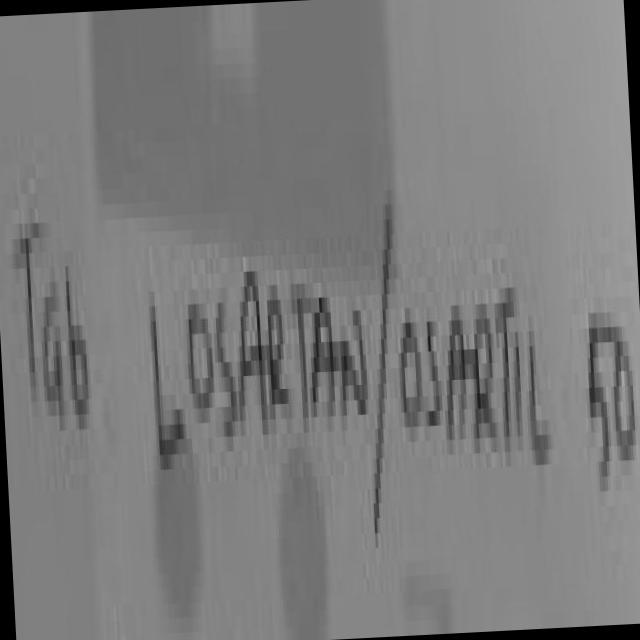0: (616, 327, 638, 461)
5: (586, 314, 612, 477)
A: (241, 272, 268, 435), (449, 305, 471, 440), (312, 298, 336, 417)
I: (513, 324, 524, 458)
L: (151, 307, 186, 463), (527, 331, 551, 463)
N: (341, 310, 368, 416)
O: (189, 304, 214, 408), (402, 322, 423, 427)
R: (472, 292, 502, 463), (265, 277, 290, 445)
S: (216, 303, 237, 429), (428, 322, 442, 419)
T: (9, 213, 45, 407), (286, 282, 312, 433), (492, 290, 515, 456)
a: (41, 297, 67, 428)
b: (64, 240, 92, 451)
